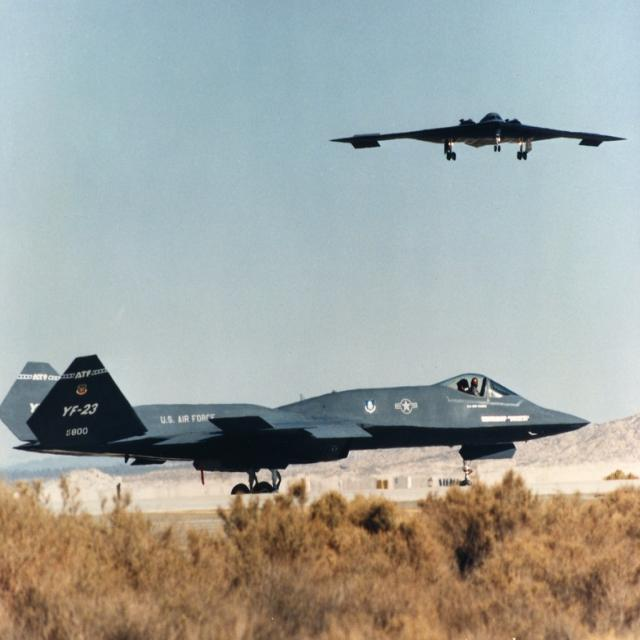MIL_Plane: (1, 354, 594, 494), (329, 110, 628, 160)
